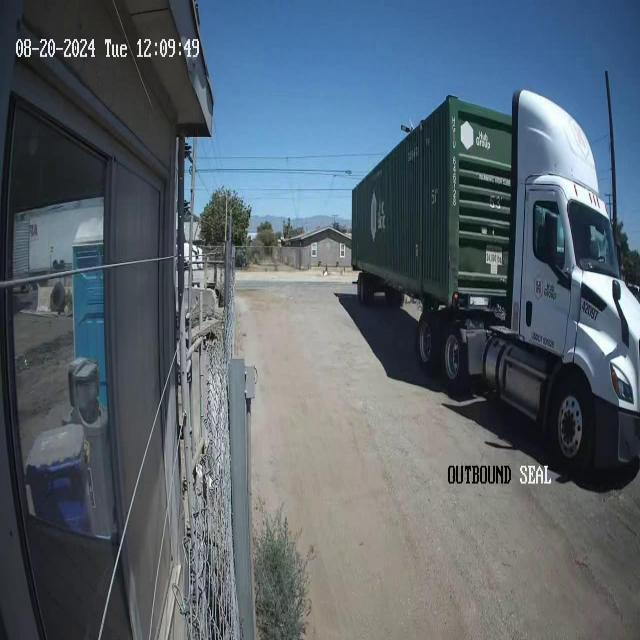TRUCK_IN: (350, 87, 640, 480)
